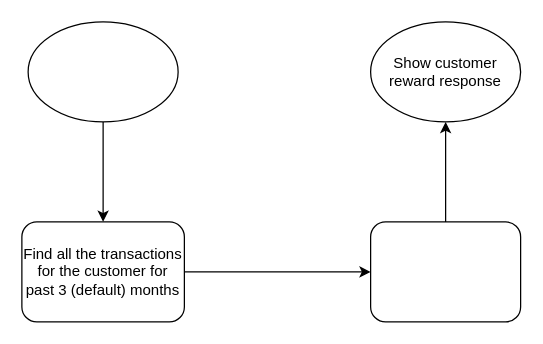
Some shapes in this 543 by 344 pixel diagram are drawn without their labels. The centre of each missing label's shape, as x and y in pixels:
"Calculate points for each transactions. Prepare a report." belongs at point 445,271.
"Get reward for a customer req." belongs at point 102,71.
